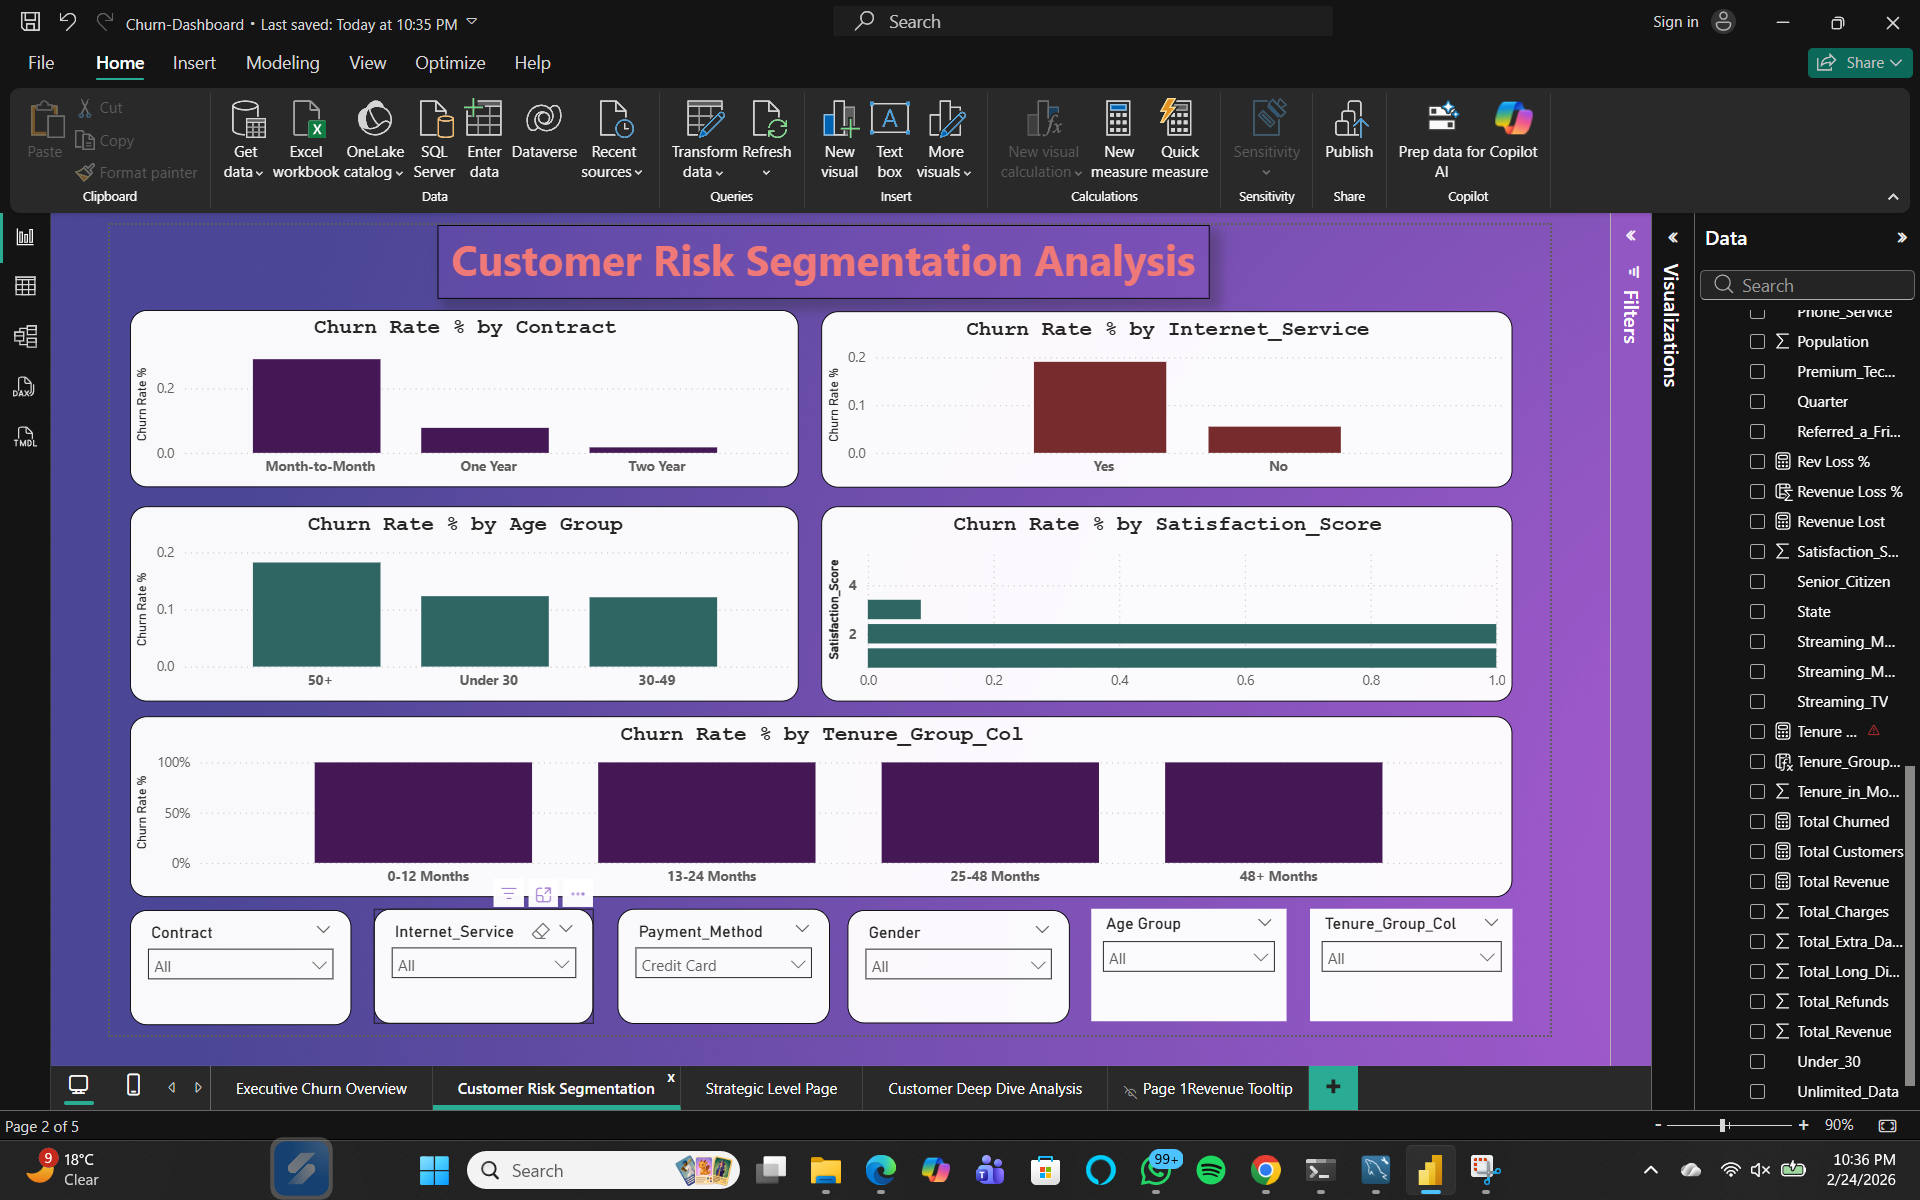

The dashboard page shown, as its layout file describes it:
{"tool":"powerbi","page":{"name":"Customer Risk Segmentation","canvas":[1280,720],"ordinal":1},"visuals":[{"type":"textbox","box":[291.1,0,686.7,65.6],"z":0},{"type":"clusteredColumnChart","fields":{"Category":["churn_analysis.Contract"],"Y":["churn_analysis.Churn Rate %"]},"box":[17.8,75.6,594.4,157.8],"z":1000},{"type":"clusteredColumnChart","fields":{"Y":["churn_analysis.Churn Rate %"],"Category":["churn_analysis.Internet_Service"]},"box":[632.2,76.7,614.4,156.7],"z":2000},{"type":"lineStackedColumnComboChart","fields":{"Category":["churn_analysis.Age Group"],"Y":["churn_analysis.Churn Rate %"]},"box":[17.8,250,594.4,173.3],"z":3000},{"type":"barChart","fields":{"Y":["churn_analysis.Churn Rate %"],"Category":["churn_analysis.Satisfaction_Score"]},"box":[632.2,250,614.4,173.3],"z":4000},{"type":"hundredPercentStackedColumnChart","fields":{"Y":["churn_analysis.Churn Rate %"],"Category":["churn_analysis.Tenure_Group_Col"]},"box":[17.8,436.7,1228.9,161.1],"z":5000},{"type":"slicer","fields":{"Values":["churn_analysis.Contract"]},"box":[17.8,608.9,196.7,102.2],"z":6000},{"type":"slicer","fields":{"Values":["churn_analysis.Internet_Service"]},"box":[234.4,607.8,195.6,102.2],"z":7000},{"type":"slicer","fields":{"Values":["churn_analysis.Payment_Method"]},"box":[451.1,607.8,188.9,102.2],"z":8000},{"type":"slicer","fields":{"Values":["churn_analysis.Age Group"]},"box":[872.2,607.8,173.3,100],"z":9000},{"type":"slicer","fields":{"Values":["churn_analysis.Tenure_Group_Col"]},"box":[1066.7,607.8,180,100],"z":10000},{"type":"slicer","fields":{"Values":["churn_analysis.Gender"]},"box":[655.6,608.9,197.8,101.1],"z":11000}]}

Visuals, with their boxes on the page's 1280x720 design canvas (x1, y1, x2, y2). These are canvas units, not pixel positions in the 1920x1200 screenshot, which may show the page scaled, cropped or inside an application window:
textbox: left=291, top=0, right=978, bottom=66
clusteredColumnChart - churn_analysis.Contract x churn_analysis.Churn Rate %: left=18, top=76, right=612, bottom=233
clusteredColumnChart - churn_analysis.Churn Rate % x churn_analysis.Internet_Service: left=632, top=77, right=1247, bottom=233
lineStackedColumnComboChart - churn_analysis.Age Group x churn_analysis.Churn Rate %: left=18, top=250, right=612, bottom=423
barChart - churn_analysis.Churn Rate % x churn_analysis.Satisfaction_Score: left=632, top=250, right=1247, bottom=423
hundredPercentStackedColumnChart - churn_analysis.Churn Rate % x churn_analysis.Tenure_Group_Col: left=18, top=437, right=1247, bottom=598
slicer - churn_analysis.Contract: left=18, top=609, right=214, bottom=711
slicer - churn_analysis.Internet_Service: left=234, top=608, right=430, bottom=710
slicer - churn_analysis.Payment_Method: left=451, top=608, right=640, bottom=710
slicer - churn_analysis.Age Group: left=872, top=608, right=1046, bottom=708
slicer - churn_analysis.Tenure_Group_Col: left=1067, top=608, right=1247, bottom=708
slicer - churn_analysis.Gender: left=656, top=609, right=853, bottom=710
